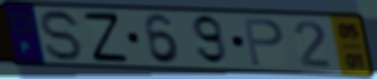2: (292, 20, 332, 70)
6: (142, 12, 181, 66)
9: (190, 13, 229, 67)
P: (240, 16, 286, 69)
S: (38, 8, 86, 63)
Z: (81, 11, 131, 64)
